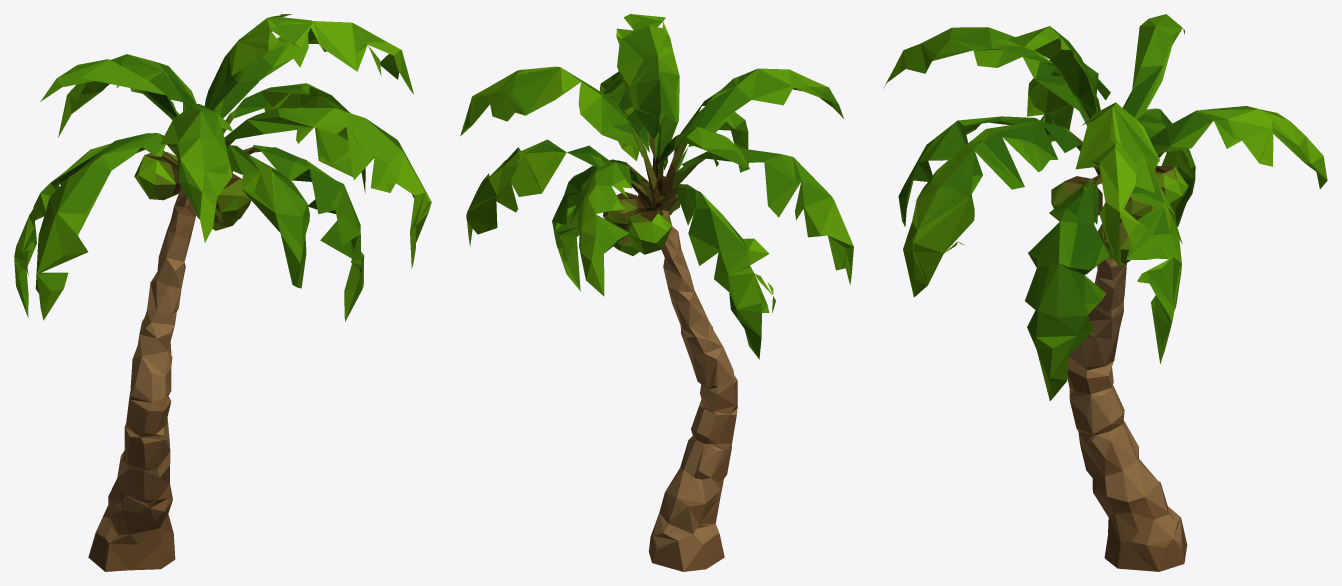
Rendered from palm-a.glb.
3 views of the same model, side by side, from view 1: azimuth 30°, elevation 25°; view 2: azimuth 150°, elevation 25°; view 3: azimuth 270°, elevation 25° (orthographic). The views are drawn at different scales.
Parts seen in each view (by area): view 1: palm-a; view 2: palm-a; view 3: palm-a.
Boxes of the visible parts, box(x1,y1,x2,y2) form: palm-a: box(14, 14, 431, 571); palm-a: box(460, 14, 853, 571); palm-a: box(883, 14, 1327, 571).
Size of the model in its own units: 7.07 by 9 by 6.34.
